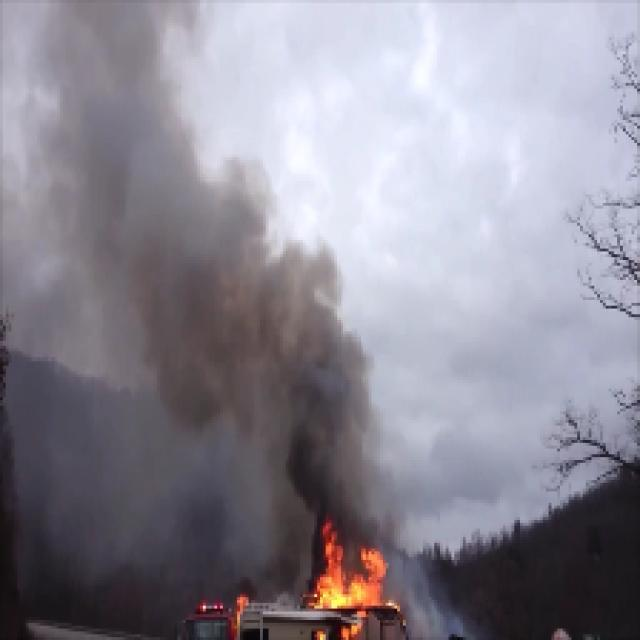Fire: (303, 525, 383, 640)
Smoke: (0, 4, 339, 476)
